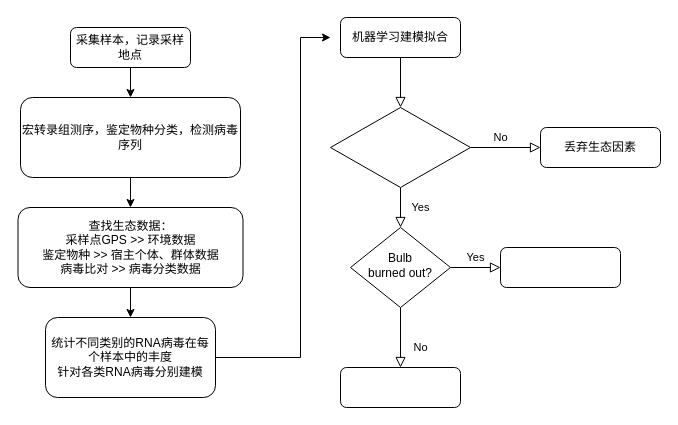
Image size: 678x425. Some labels were removed from this diagram. The shapes that lost their labels are listed below. From the top down, each one's box as (x1, y1, x2, y2) in pixels, then its label:
(330, 106, 470, 188): 生态因素权重大？
(500, 246, 620, 288): Replace Bulb
(340, 366, 460, 408): Repair Lamp
